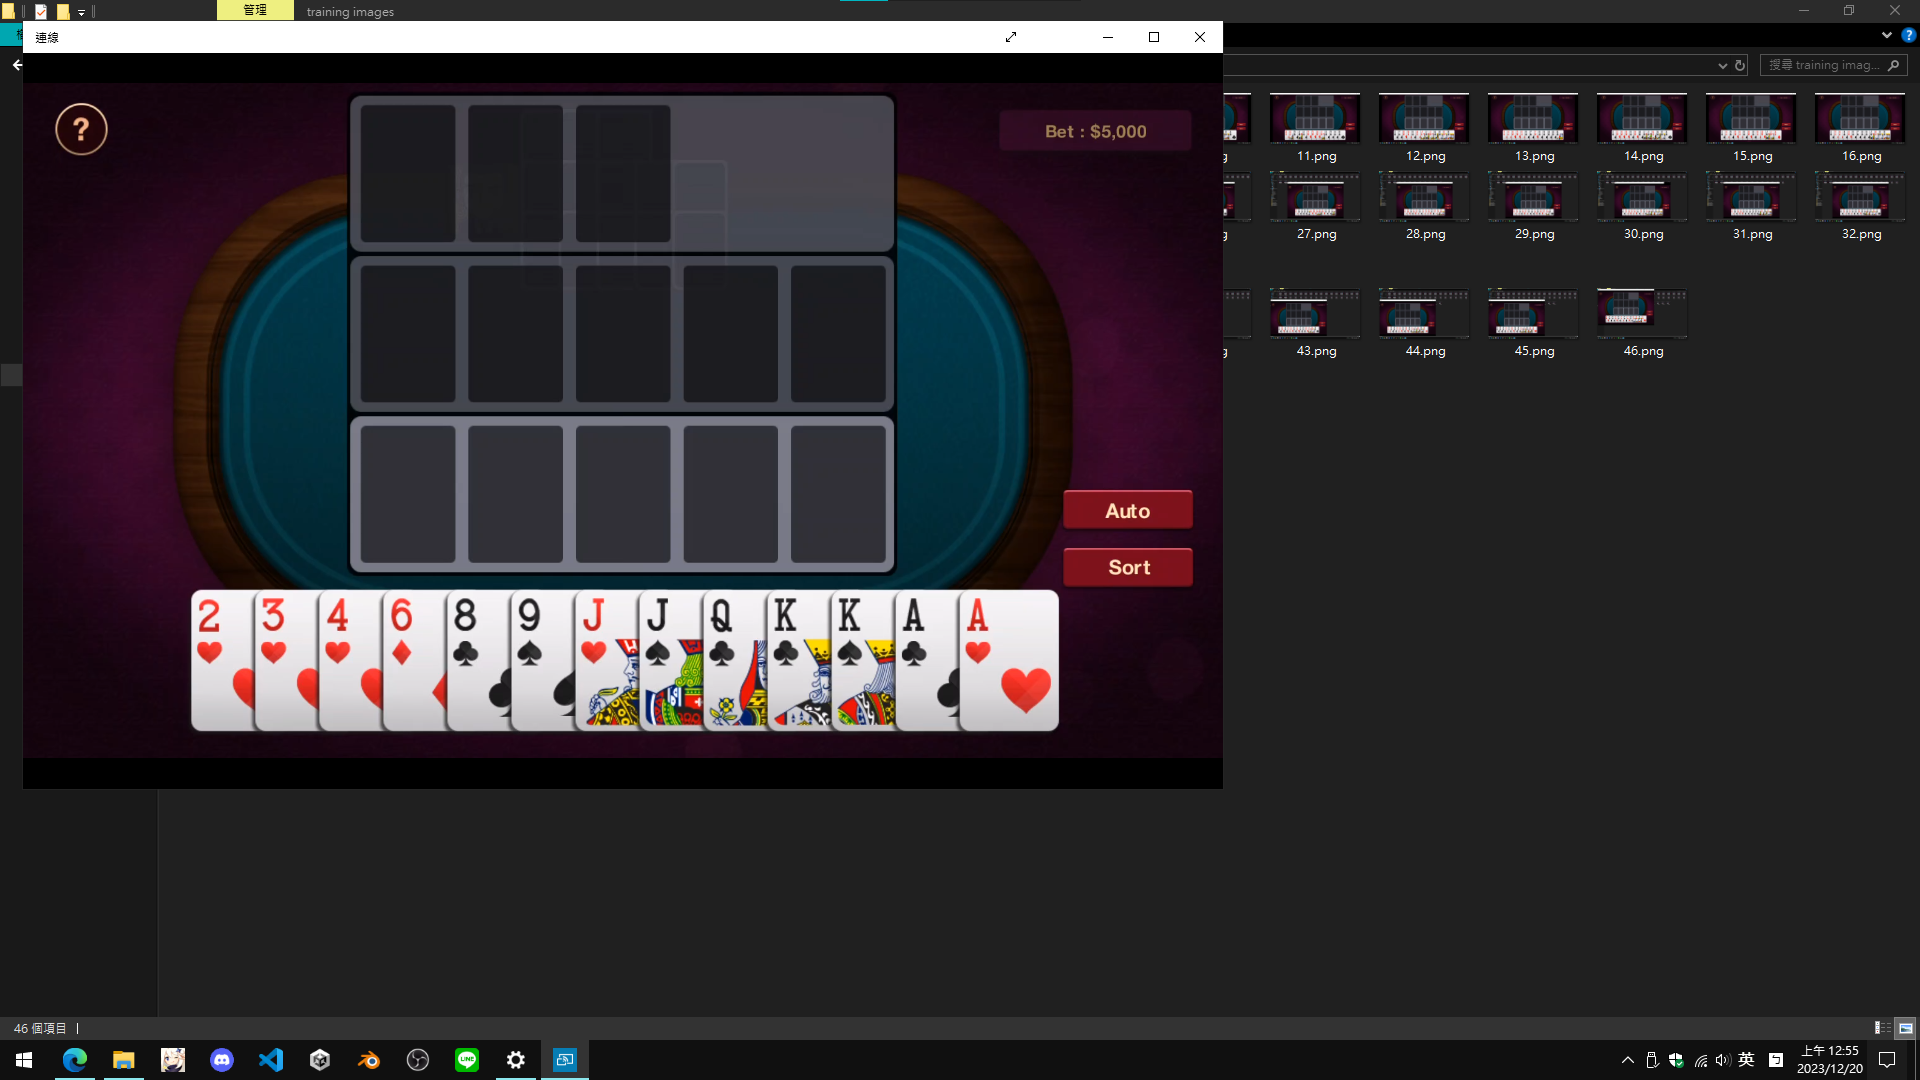2H: (196, 596, 227, 667)
3H: (260, 595, 290, 667)
4H: (324, 593, 355, 670)
6D: (388, 595, 417, 669)
8C: (451, 595, 480, 674)
9S: (516, 595, 549, 670)
AC: (899, 595, 931, 673)
AH: (964, 596, 994, 667)
JH: (578, 595, 608, 667)
JS: (645, 595, 674, 671)
KC: (771, 593, 802, 673)
KS: (833, 595, 866, 674)
QC: (709, 596, 736, 673)
